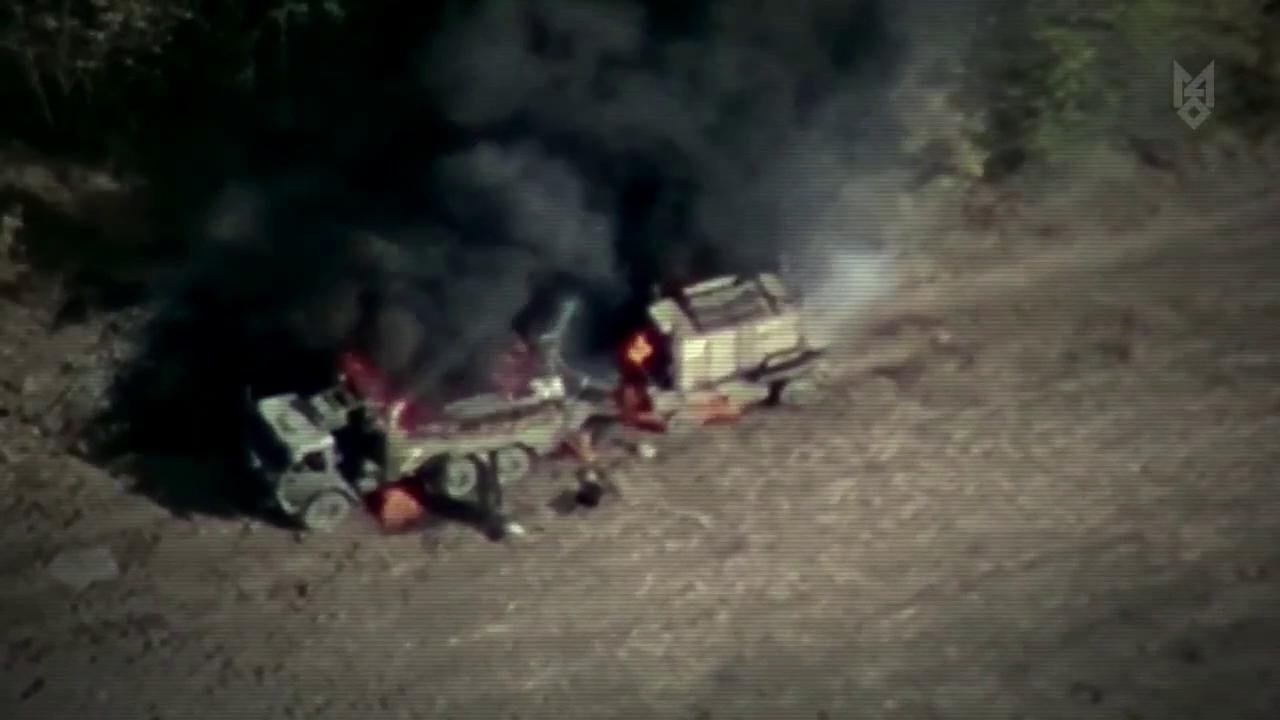tank: (247, 348, 595, 535), (627, 261, 843, 436)
